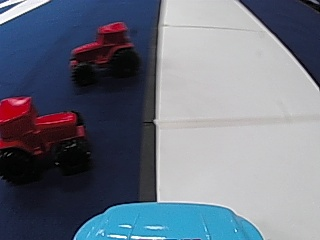tractor: (1, 92, 92, 182), (67, 20, 140, 85)
